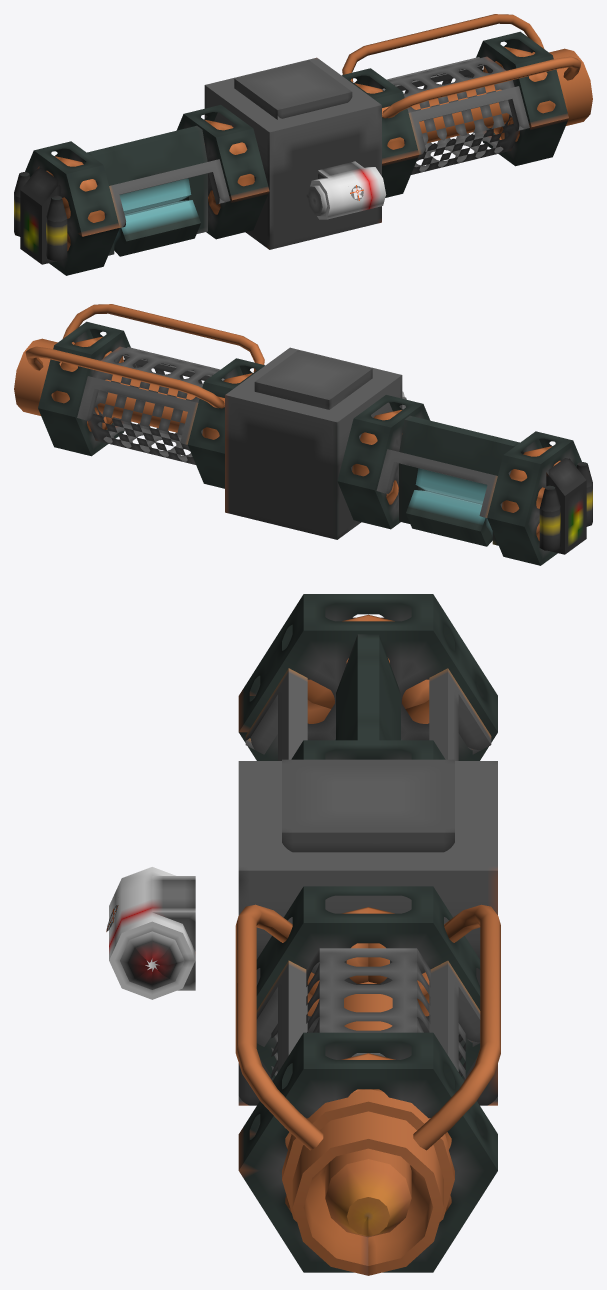
File: turret_tauon.obj
3 views of the same model, one above another, from view 1: azimuth 30°, elevation 25°; view 2: azimuth 150°, elevation 25°; view 3: azimuth 270°, elevation 25° (orthographic). The views are drawn at different scales.
Visible parts, largest first — view 1: Cannon, Rotor; view 2: Cannon, Rotor; view 3: Cannon.
Boxes of the visible parts, x1,y1,x2,y2 form: Cannon: (14, 14, 592, 275); Rotor: (114, 178, 200, 256); Cannon: (14, 304, 592, 565); Rotor: (406, 468, 492, 546); Cannon: (106, 594, 500, 1275).
Size of the model in its own units: 3.69 by 0.8125 by 1.14.
